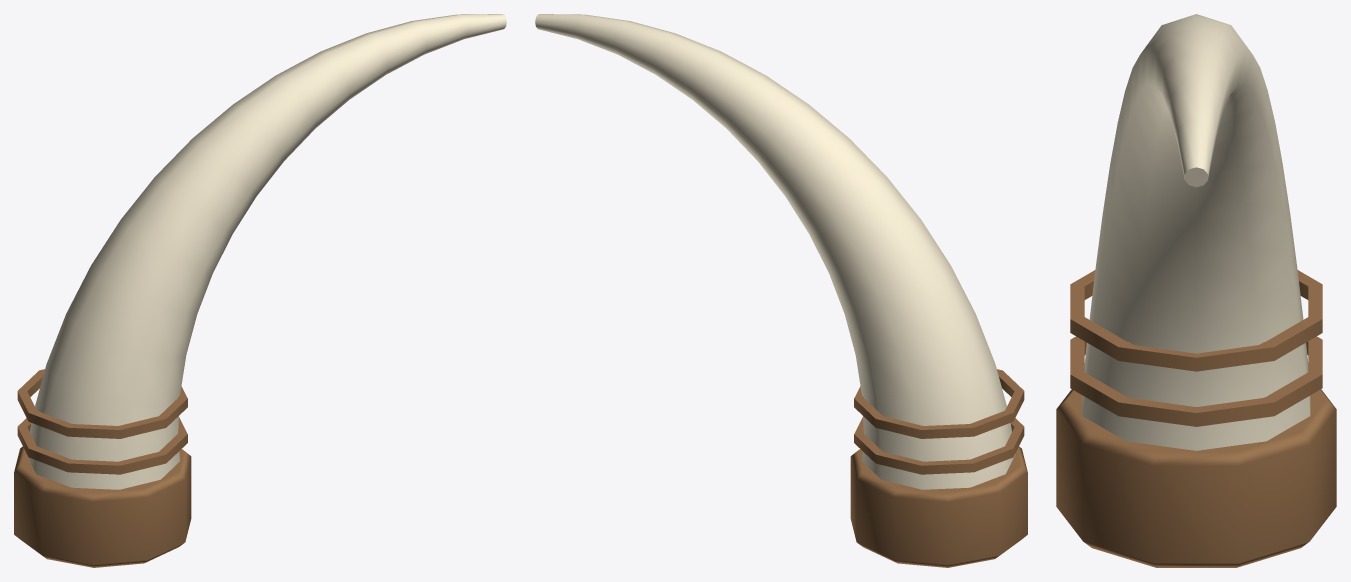
The model's file is resource-tusk.glb.
The picture shows the model from 3 angles, left to right: view 1: azimuth 30°, elevation 25°; view 2: azimuth 150°, elevation 25°; view 3: azimuth 270°, elevation 25°; orthographic projection. The views are drawn at different scales.
Visible parts, largest first — view 1: ResourceTusk_Ivory, ResourceTusk_Base; view 2: ResourceTusk_Ivory, ResourceTusk_Base; view 3: ResourceTusk_Ivory, ResourceTusk_Base.
Boxes of the visible parts, x1=… form: ResourceTusk_Ivory: x1=26, y1=14, x2=506, y2=489; ResourceTusk_Base: x1=14, y1=369, x2=191, y2=567; ResourceTusk_Ivory: x1=535, y1=14, x2=1015, y2=489; ResourceTusk_Base: x1=850, y1=369, x2=1027, y2=567; ResourceTusk_Ivory: x1=1082, y1=14, x2=1310, y2=450; ResourceTusk_Base: x1=1056, y1=270, x2=1336, y2=567.
Bounding box in the file's own units: 2.79 × 2.44 × 0.92.
